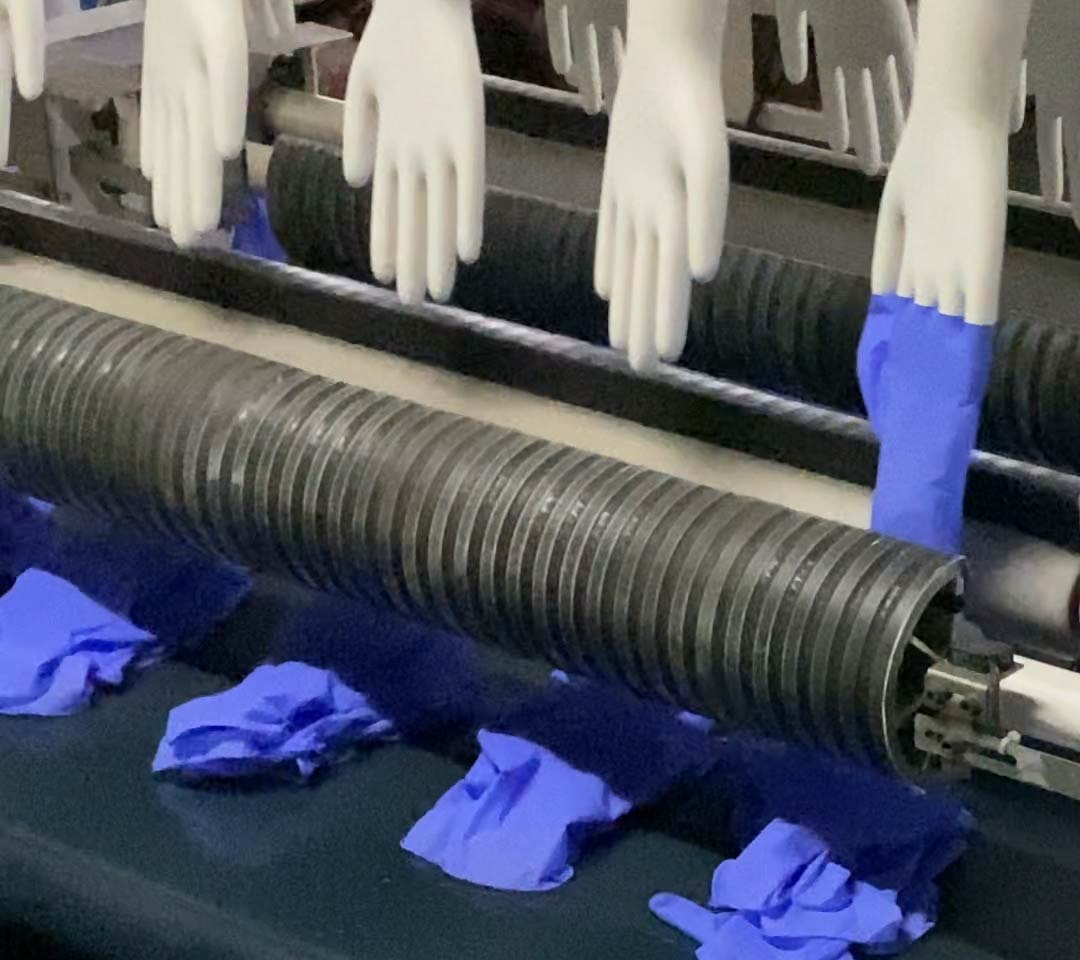glove: (851, 290, 996, 580)
